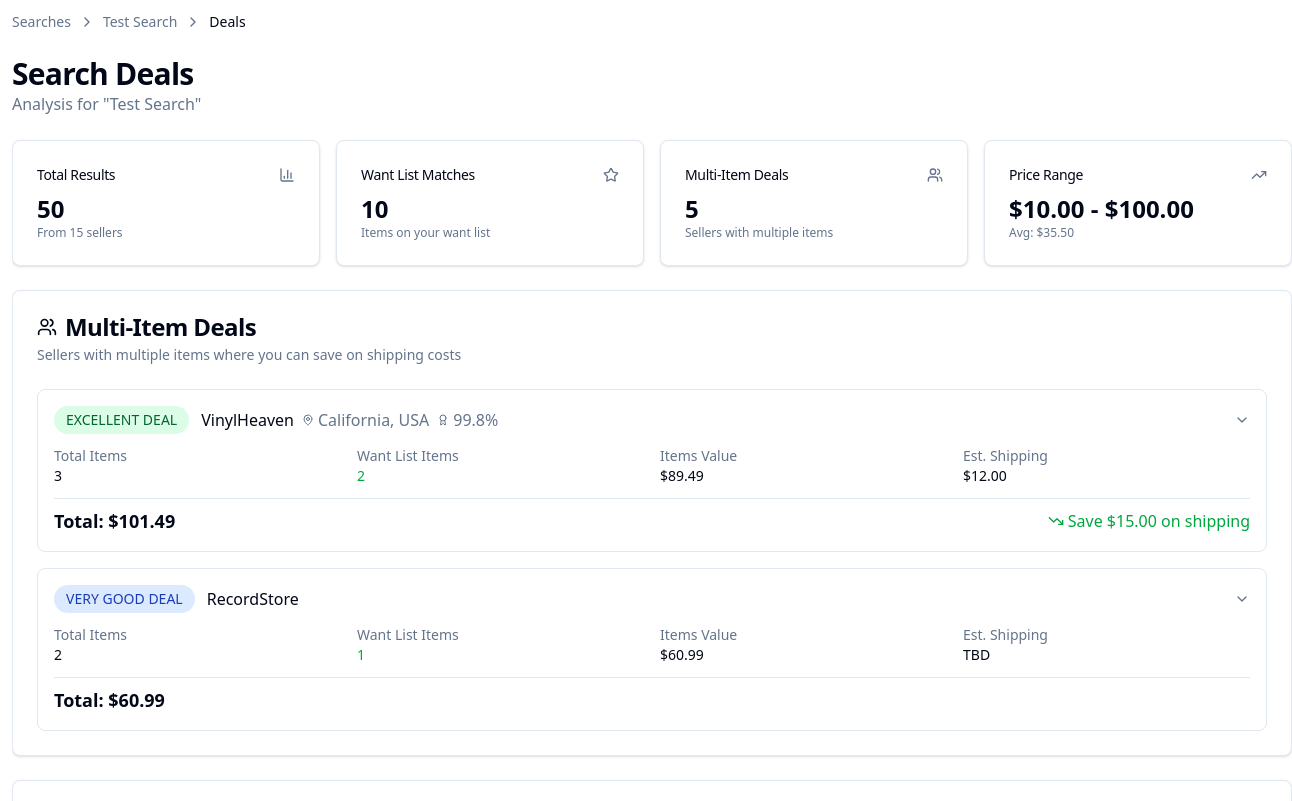
SearchDealsPage › Edge Cases › should handle items with missing artist information
Check: the text "EXCELLENT DEAL" is shown, box left=54, top=406, right=189, bottom=434
Click the element with class "cursor-pointer" that starts with "EXCELLENT": (652, 470) left=38, top=390, right=1266, bottom=551
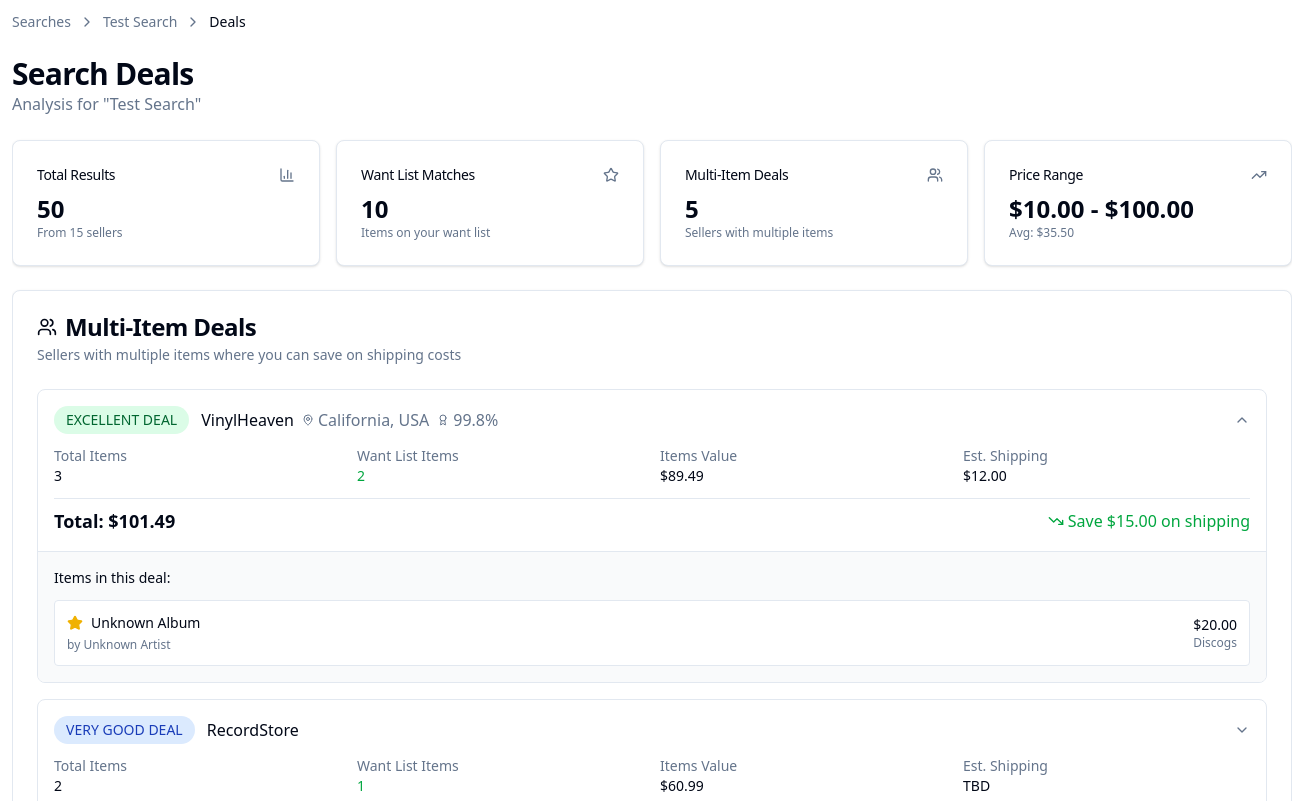
Check: the text "by Unknown Artist" is shown, box left=67, top=636, right=170, bottom=653
